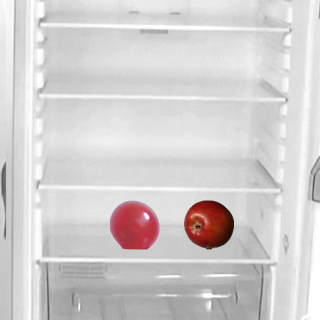Apple Braeburn: (183, 199, 233, 249)
Redcurrant: (109, 199, 159, 249)
